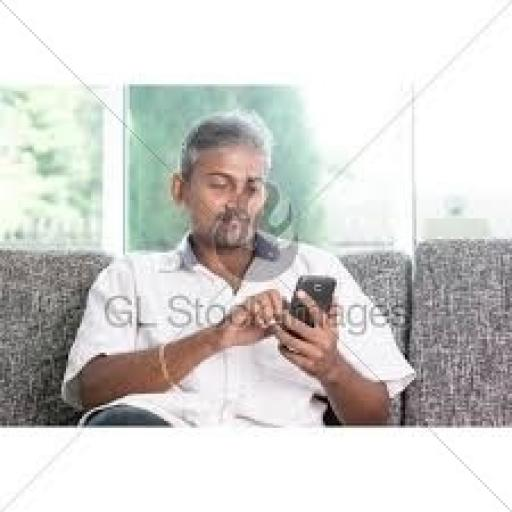texting: (57, 107, 416, 430)
